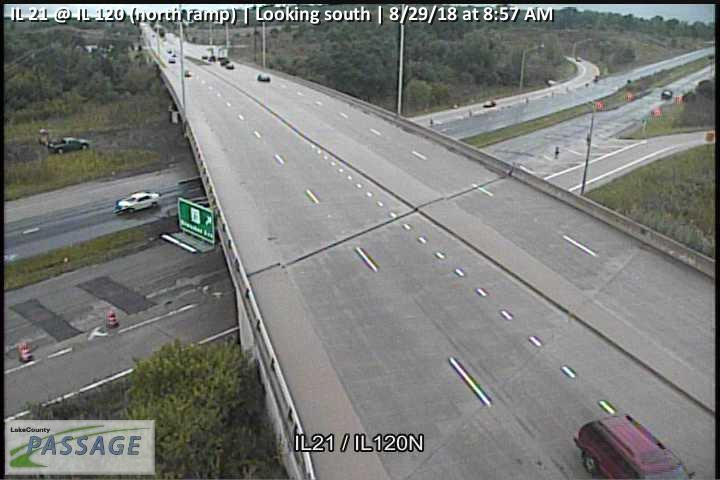SUV: (570, 414, 692, 480), (48, 136, 91, 154)
Sedan: (118, 191, 159, 215), (258, 72, 271, 82)
